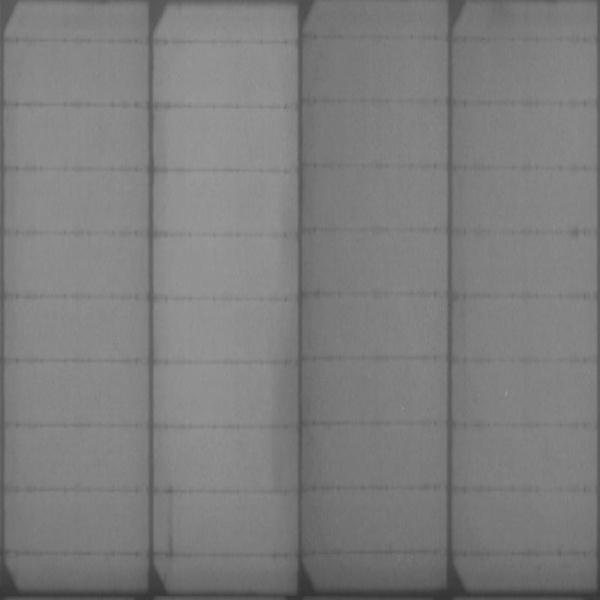scratch: (162, 488, 181, 564)
